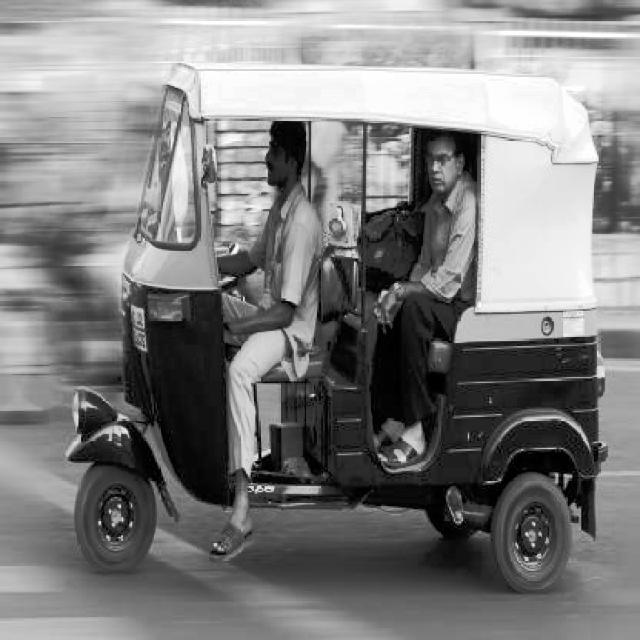Auto-Rickshaw: (67, 33, 616, 634)
